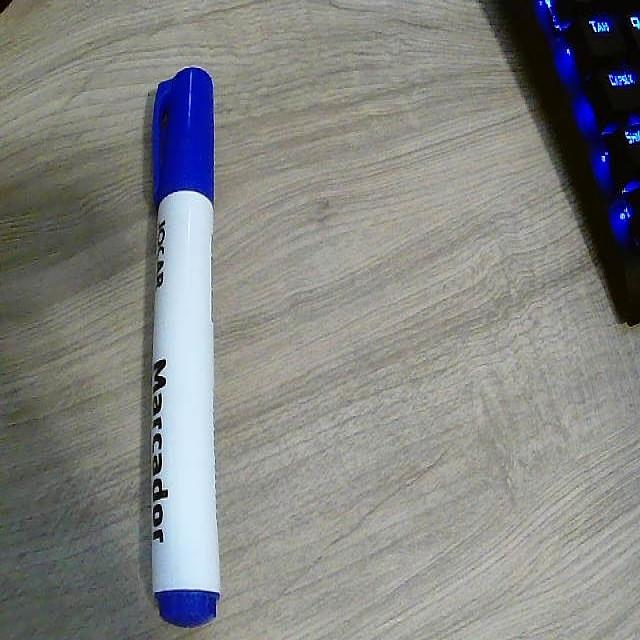caneta: (138, 73, 228, 629)
